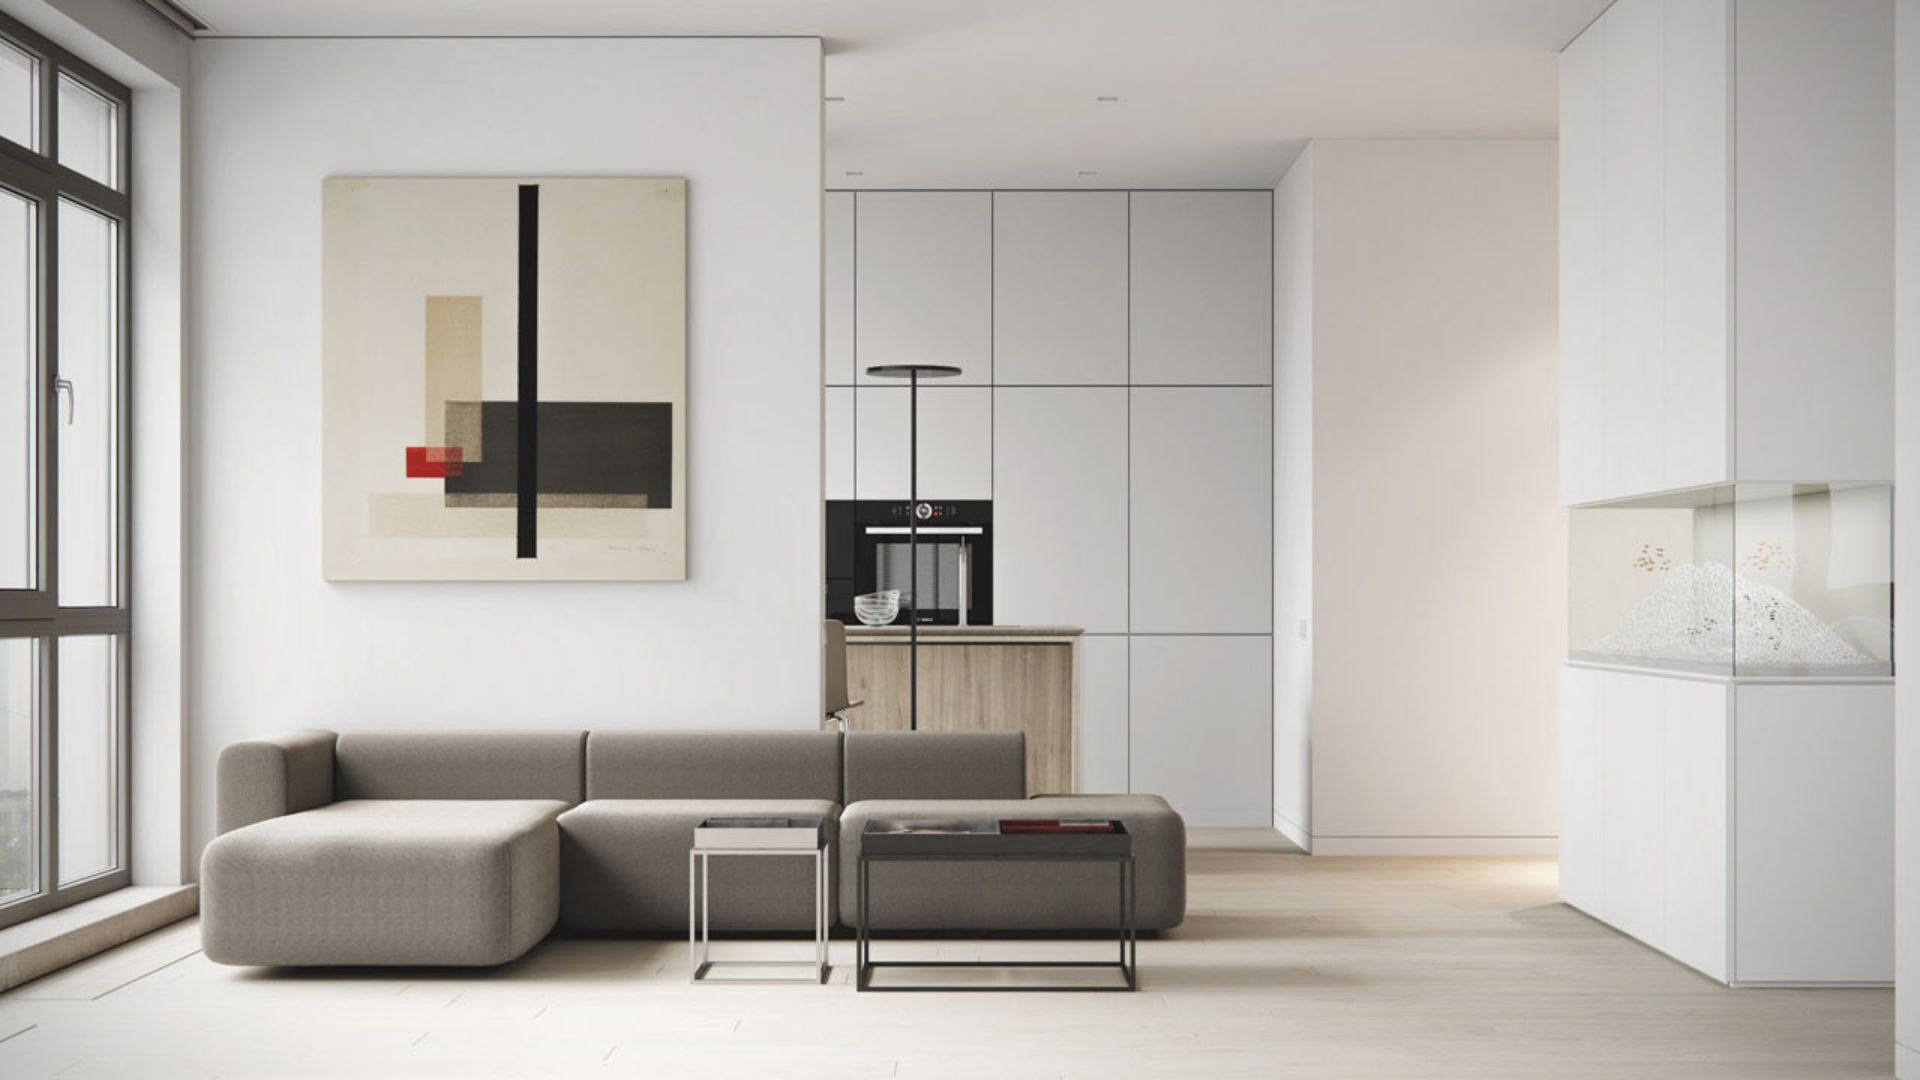sofa: (196, 721, 1187, 975)
table: (847, 822, 1141, 1001), (680, 808, 837, 992)
wall art: (309, 160, 700, 592)
